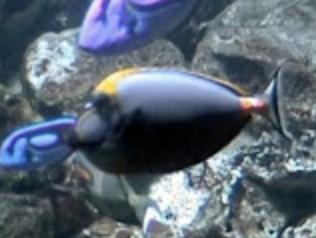Acanthuridae -Surgeonfishes-: (71, 54, 292, 178)
